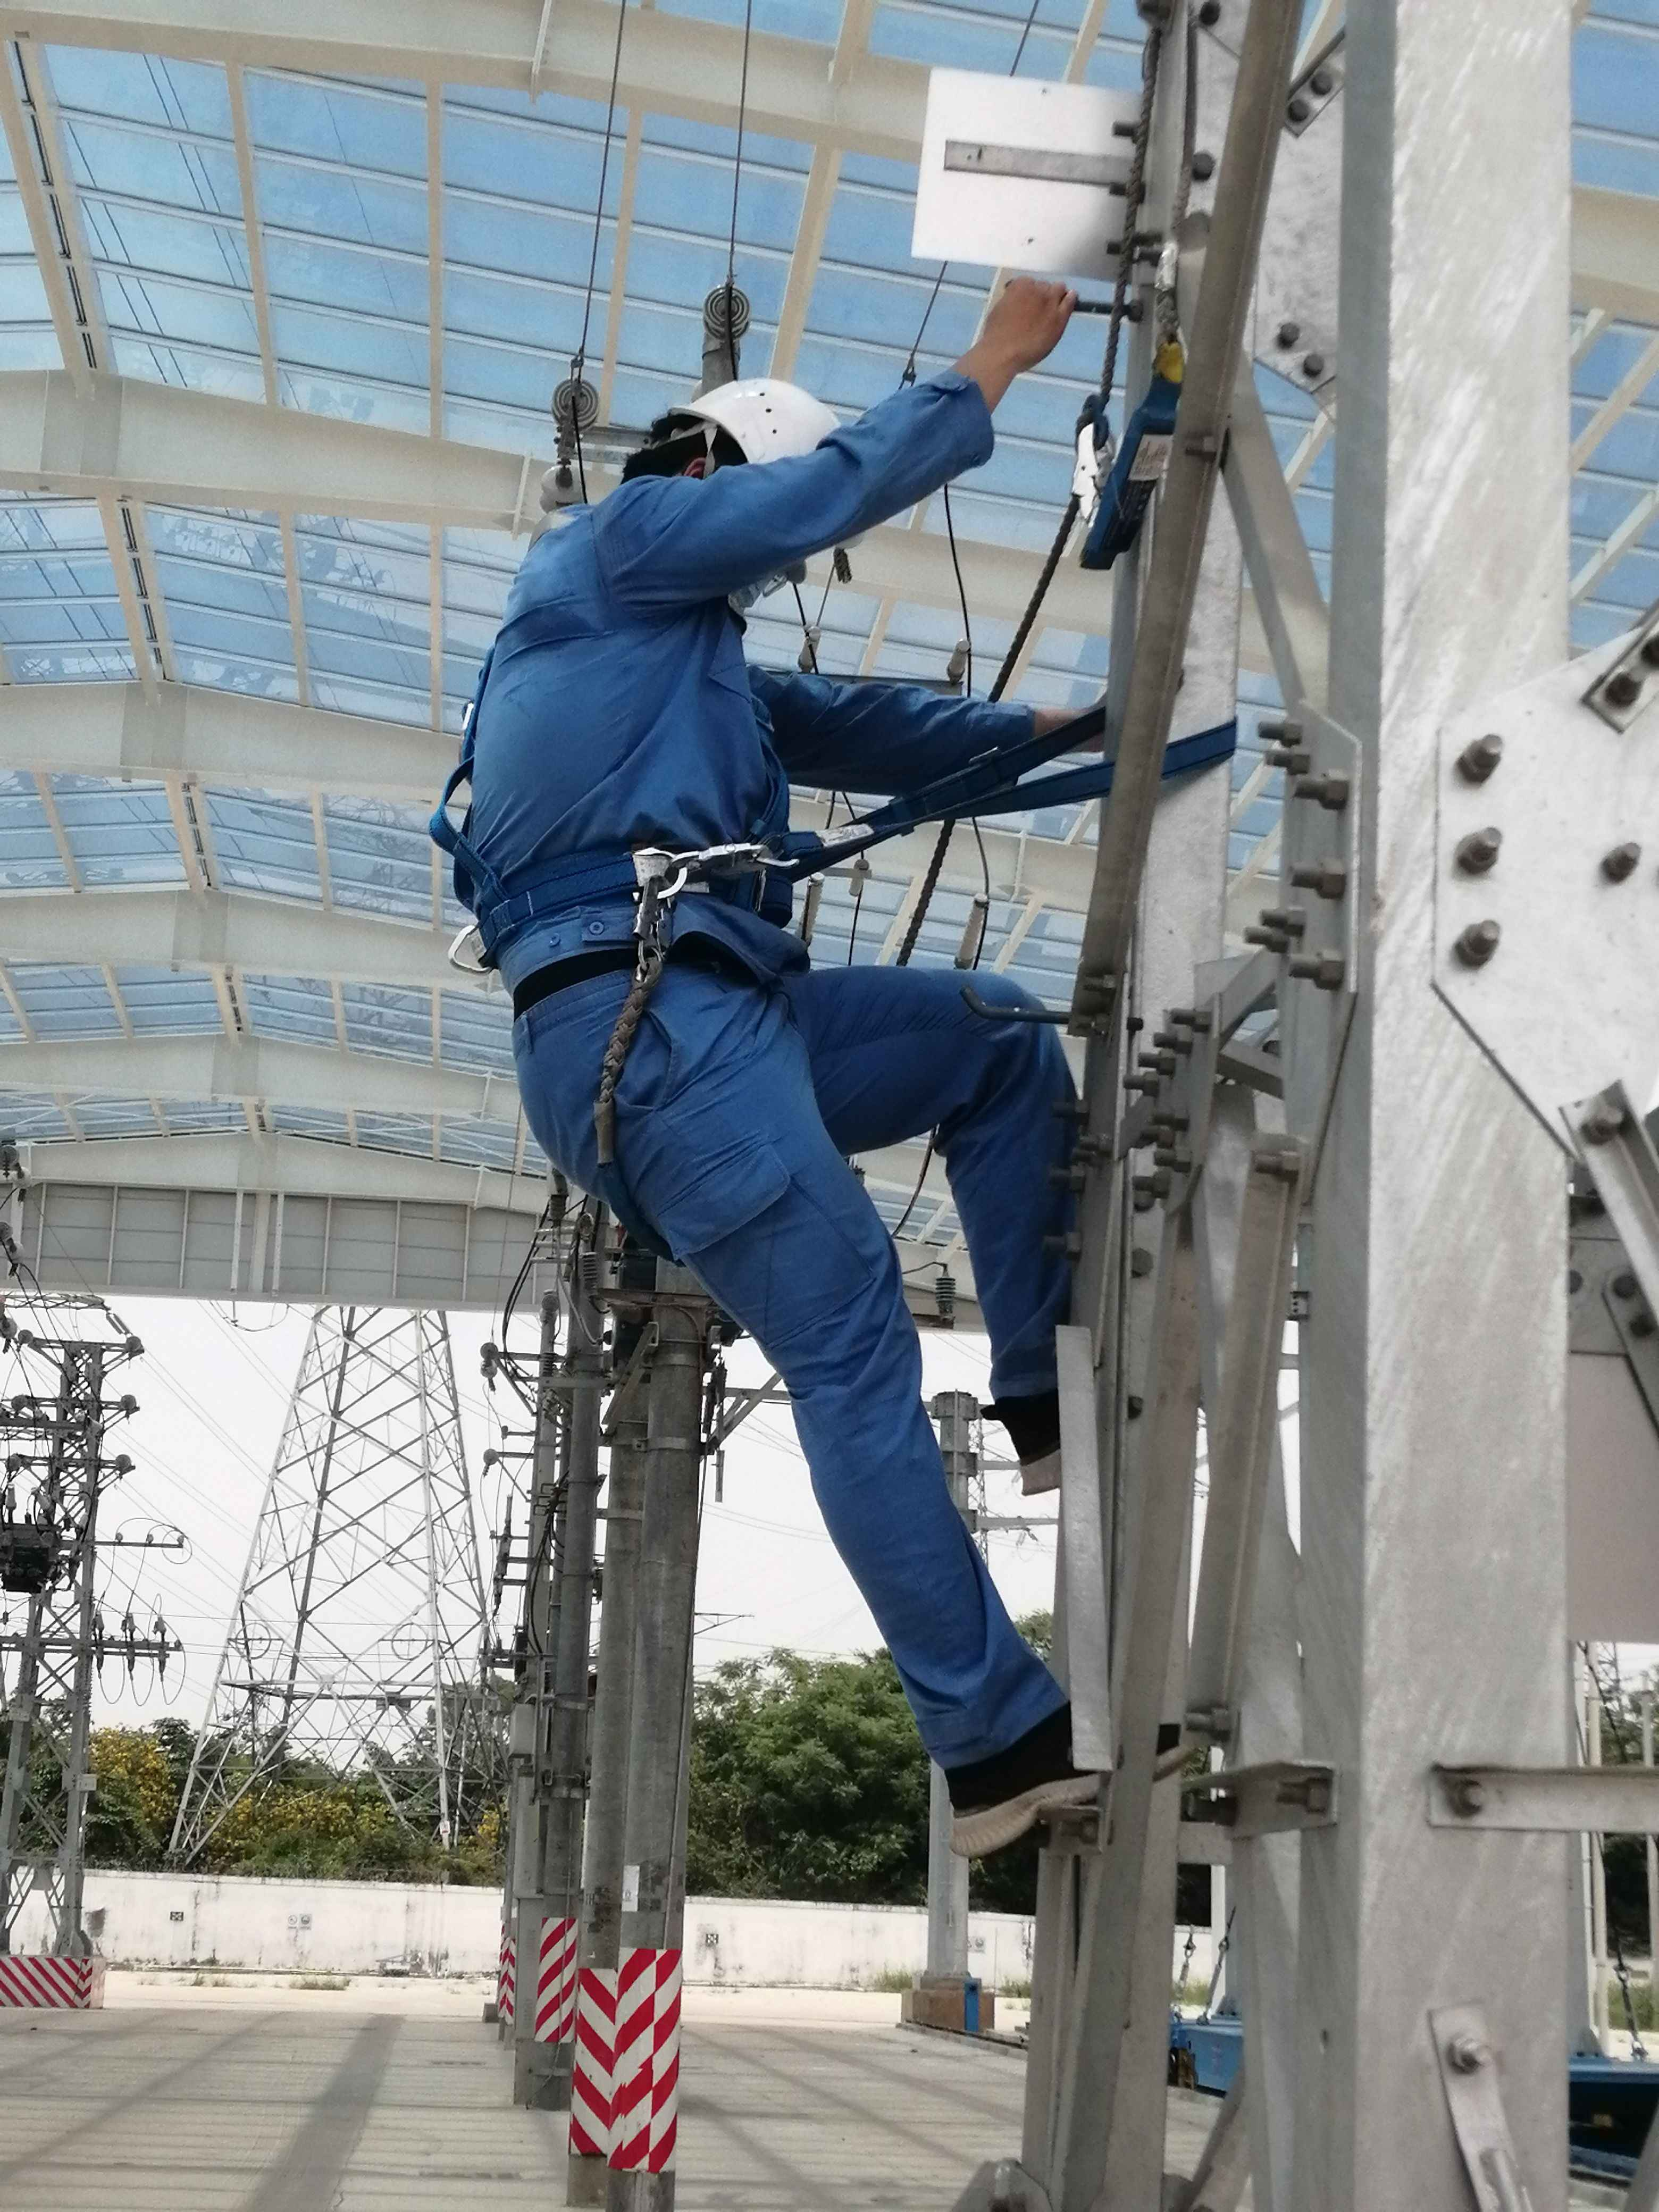downsuit: (511, 968, 1093, 1745)
upsuit: (450, 378, 1018, 953)
